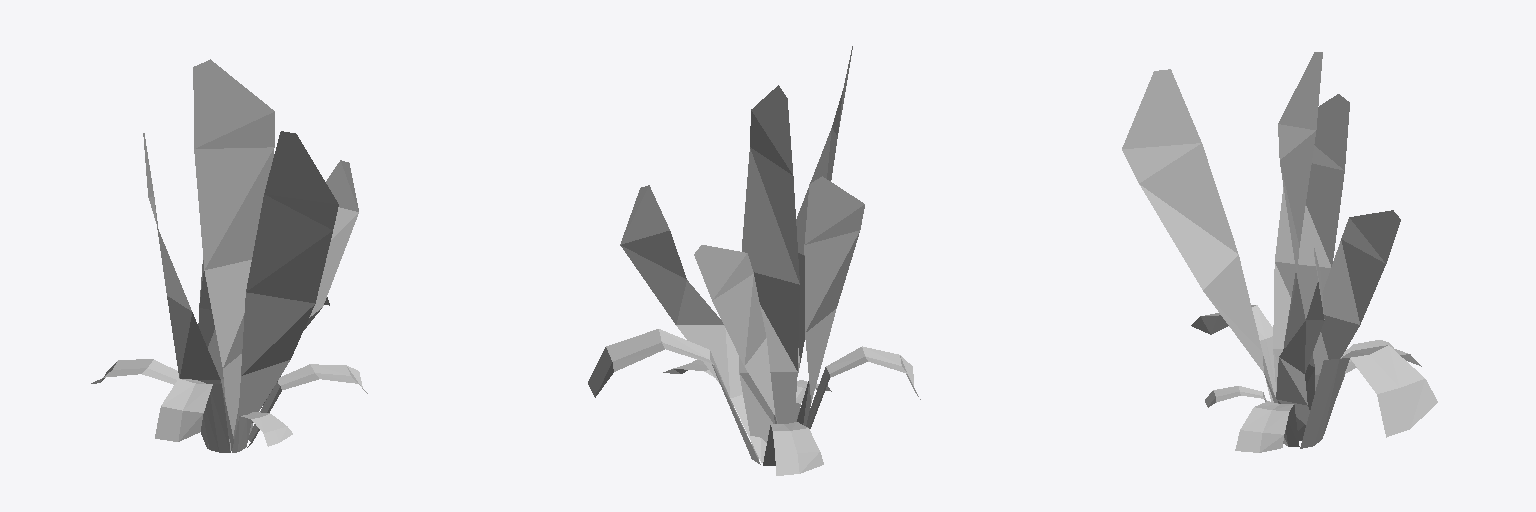
The model's file is plant_2.obj.
The picture shows the model from 3 angles: view 1: azimuth 30°, elevation 25°; view 2: azimuth 150°, elevation 25°; view 3: azimuth 270°, elevation 25°; orthographic projection.
Visible parts, largest first — view 1: Plane.002_Plane.046; view 2: Plane.002_Plane.046; view 3: Plane.002_Plane.046.
Boxes of the visible parts, box(x1,y1,x2,y2) form: Plane.002_Plane.046: box(91, 59, 367, 452); Plane.002_Plane.046: box(588, 46, 920, 475); Plane.002_Plane.046: box(1122, 52, 1437, 452).
Size of the model in its own units: 2.31 by 3.31 by 2.49.